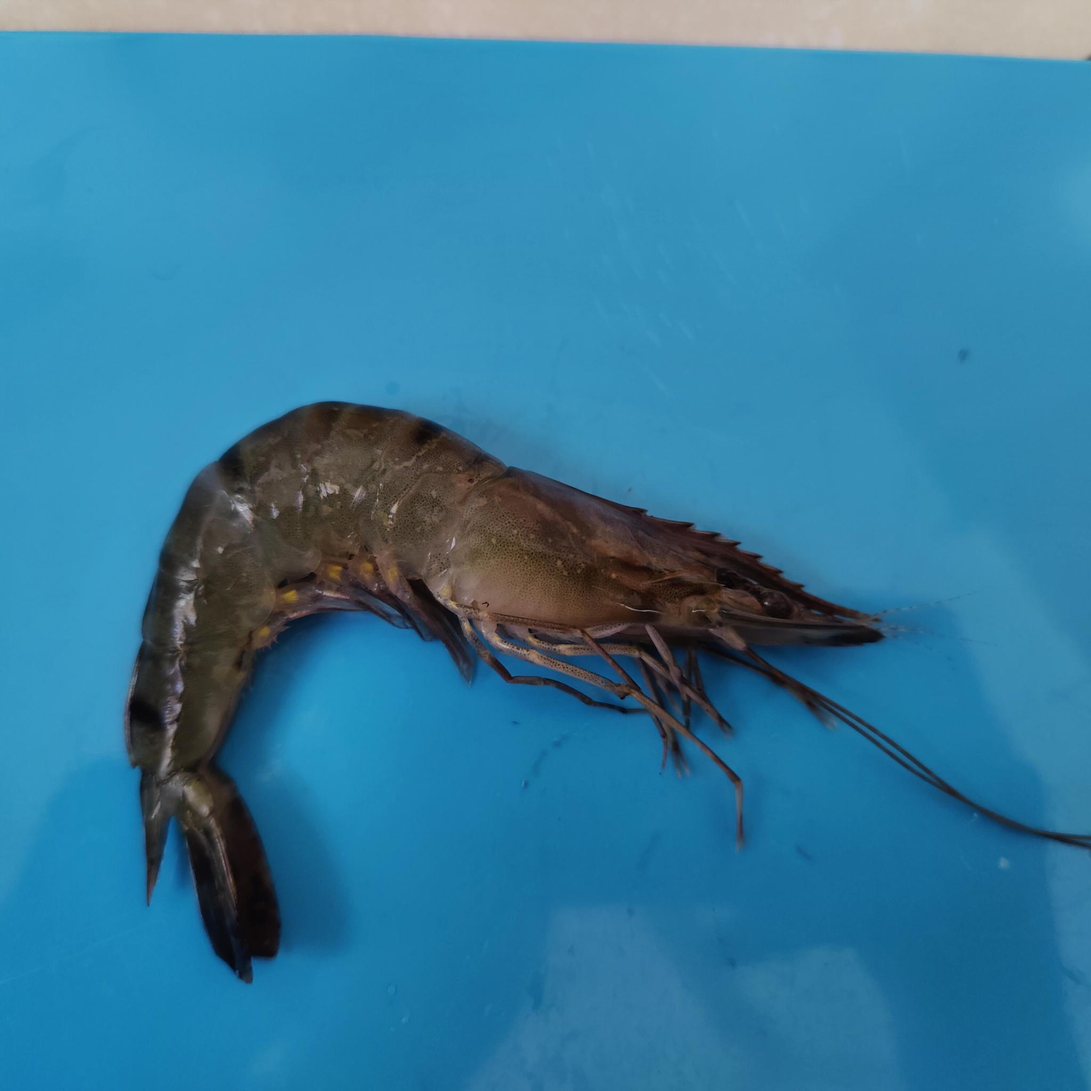whitespot: (223, 419, 676, 582)
